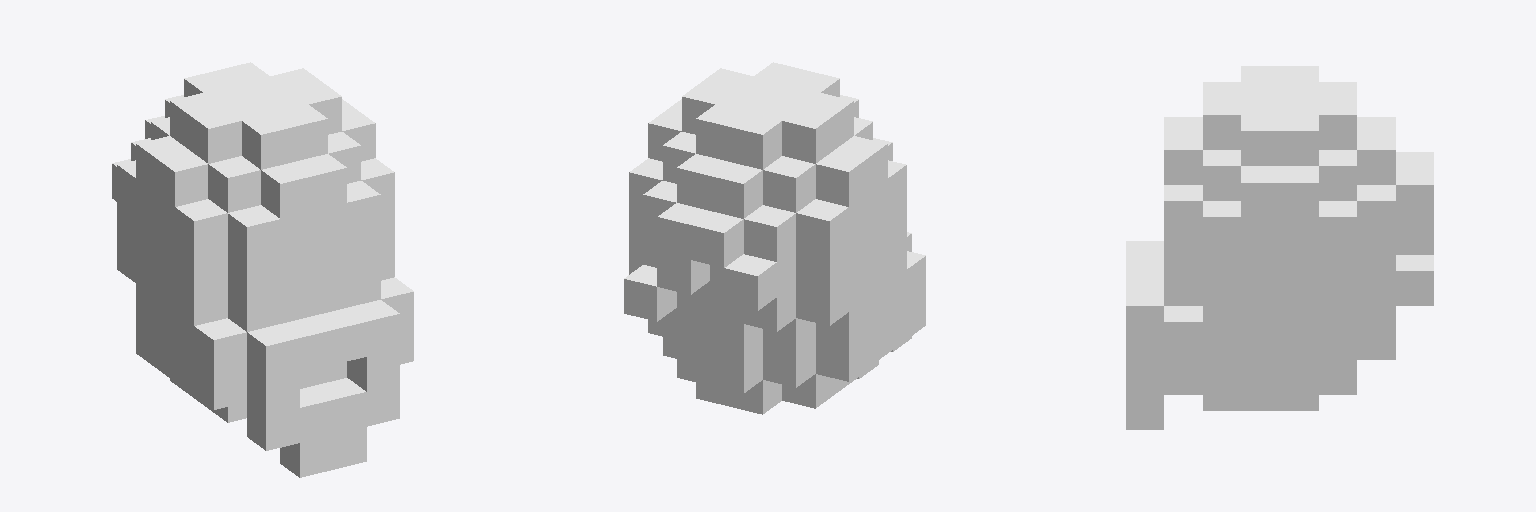
Rendered from piratehead.obj.
3 renders of one model, left to right at view 1: azimuth 30°, elevation 25°; view 2: azimuth 150°, elevation 25°; view 3: azimuth 270°, elevation 25°, orthographic.
Visible parts, largest first — view 1: object 1; view 2: object 1; view 3: object 1.
Part boxes in pixels (x1,y1,x2,y2): object 1: (112,62,413,477); object 1: (624,62,925,414); object 1: (1126,66,1433,429).
Size of the model in its own units: 0.6 by 0.9 by 0.8.